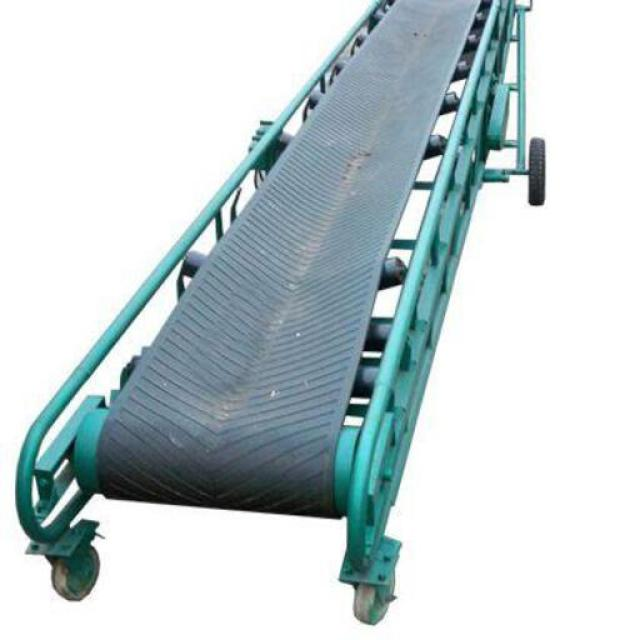conveyor: (98, 0, 482, 518)
